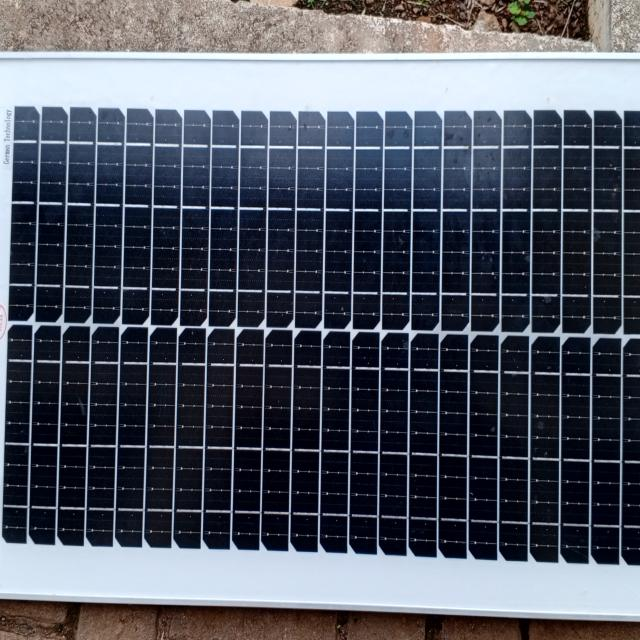Clean: (20, 76, 640, 584)
